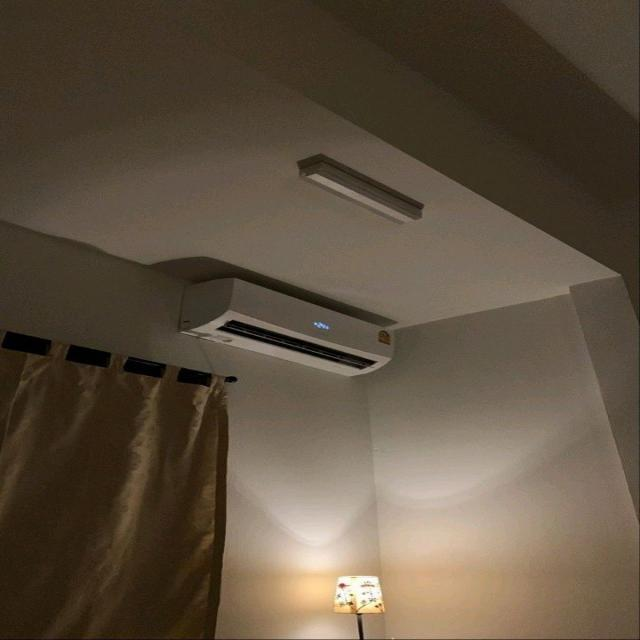AC: (177, 276, 395, 377)
